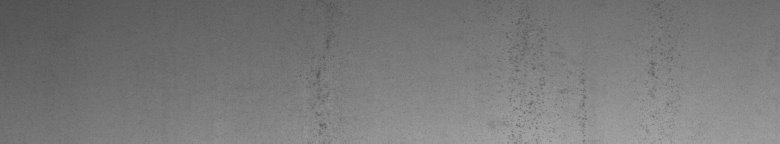ib: (509, 37, 680, 136)
